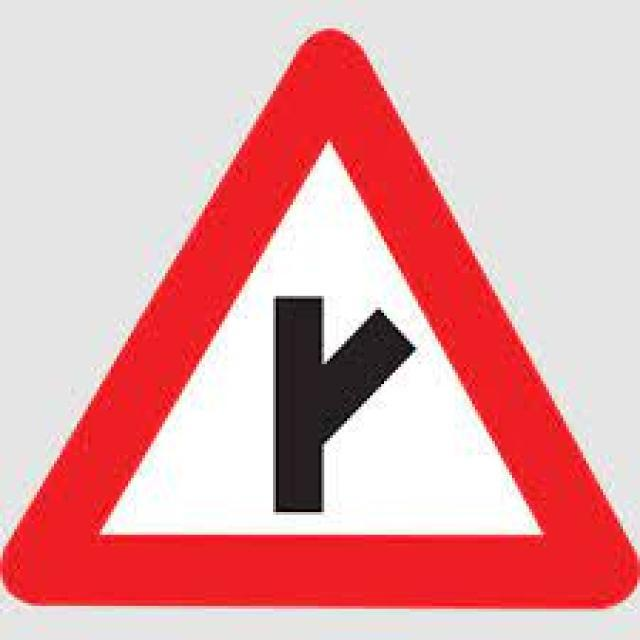y intersection: (17, 27, 614, 614)
